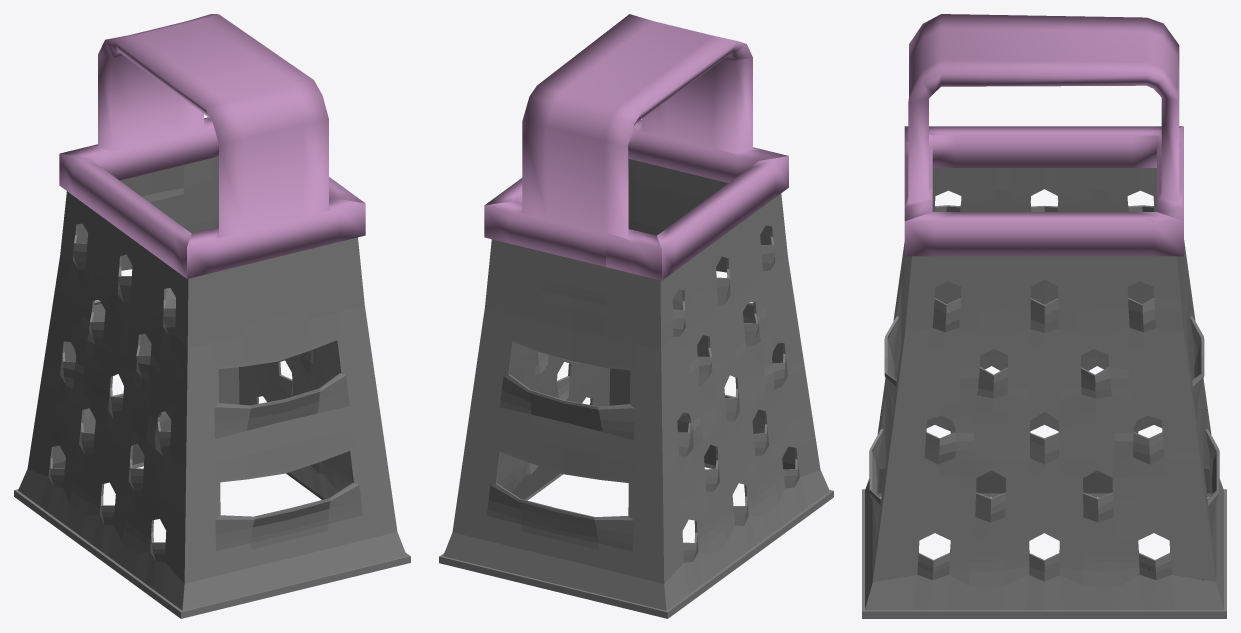
File: grater.fbx
3 renders of one model, left to right at view 1: azimuth 30°, elevation 25°; view 2: azimuth 150°, elevation 25°; view 3: azimuth 270°, elevation 25°, orthographic. The views are drawn at different scales.
Visible parts, largest first — view 1: grater, handle; view 2: grater, handle; view 3: grater, handle.
Part boxes in pixels (bbox=[...]): grater: bbox=[14, 156, 410, 618]; handle: bbox=[59, 14, 365, 278]; grater: bbox=[439, 159, 833, 618]; handle: bbox=[484, 14, 788, 280]; grater: bbox=[862, 168, 1226, 618]; handle: bbox=[904, 14, 1183, 256].
Bounding box in the file's own units: 107 × 210 × 135.
Materials: 1 (1 with a texture image).
